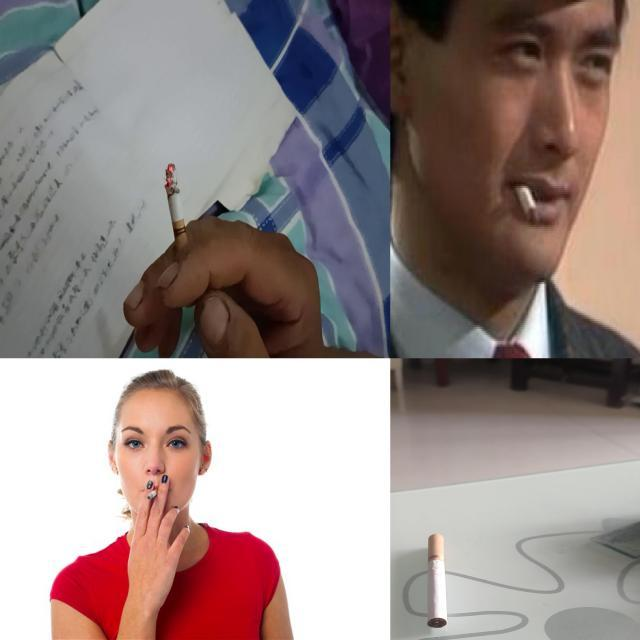cigarette: (166, 162, 190, 270), (426, 534, 450, 629), (508, 178, 547, 227), (146, 488, 160, 500)
